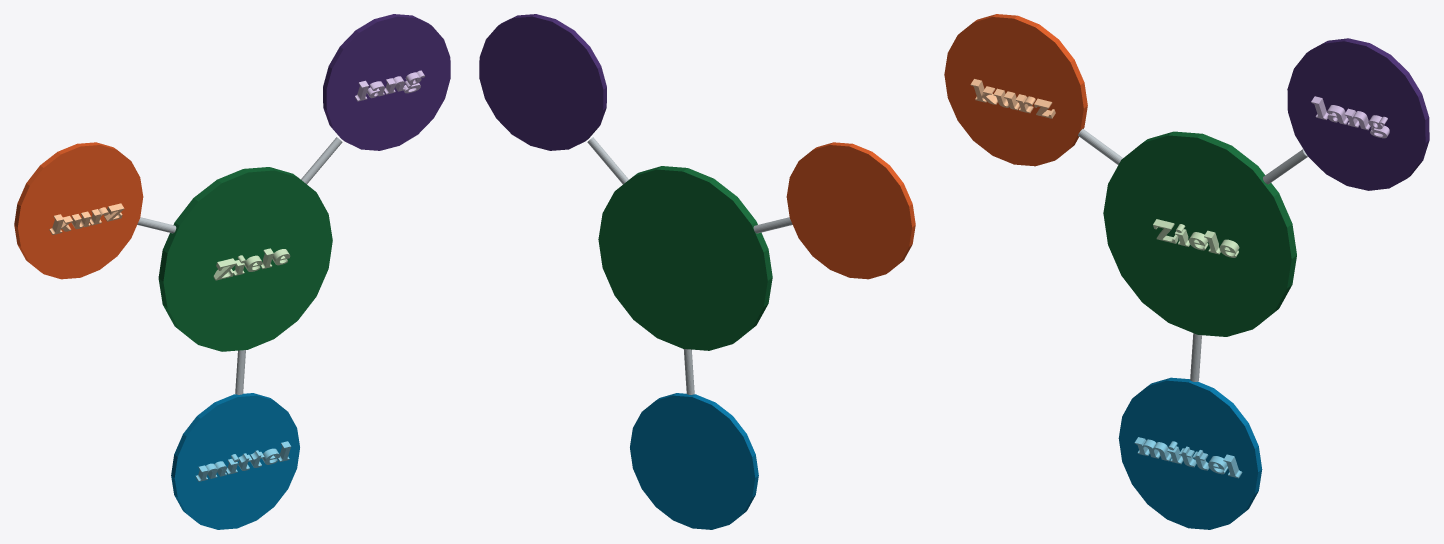
Rendered from tinker.obj.
3 renders of one model, left to right at view 1: azimuth 30°, elevation 25°; view 2: azimuth 150°, elevation 25°; view 3: azimuth 330°, elevation 25°, orthographic. The views are drawn at different scales.
Parts seen in each view (by area): view 1: group_0_1206582, group_0_4796018, group_0_14900002, group_0_30377, group_0_8768998, group_0_12568524, group_0_13165757, group_0_16500122, group_0_13877221; view 2: group_0_1206582, group_0_4796018, group_0_14900002, group_0_30377, group_0_12568524; view 3: group_0_1206582, group_0_4796018, group_0_14900002, group_0_30377, group_0_8768998, group_0_12568524, group_0_13165757, group_0_16500122, group_0_13877221.
Boxes of the visible parts, box(x1,y1,x2,y2) form: group_0_1206582: box(158, 167, 332, 351); group_0_4796018: box(323, 14, 450, 150); group_0_14900002: box(14, 142, 143, 279); group_0_30377: box(171, 393, 299, 529); group_0_8768998: box(195, 441, 291, 481); group_0_12568524: box(137, 137, 342, 394); group_0_13165757: box(213, 248, 290, 280); group_0_16500122: box(49, 203, 124, 234); group_0_13877221: box(355, 70, 424, 101); group_0_1206582: box(598, 166, 772, 350); group_0_4796018: box(479, 14, 606, 150); group_0_14900002: box(786, 142, 915, 279); group_0_30377: box(630, 393, 758, 529); group_0_12568524: box(587, 137, 792, 394); group_0_1206582: box(1103, 131, 1296, 336); group_0_4796018: box(1287, 38, 1429, 190); group_0_14900002: box(944, 14, 1087, 166); group_0_30377: box(1118, 377, 1262, 529); group_0_8768998: box(1134, 437, 1242, 478); group_0_12568524: box(1078, 129, 1307, 381); group_0_13165757: box(1153, 219, 1239, 257); group_0_16500122: box(970, 79, 1055, 118); group_0_13877221: box(1311, 96, 1389, 138).
Bounding box in the file's own units: 69 × 72 × 3.17.
